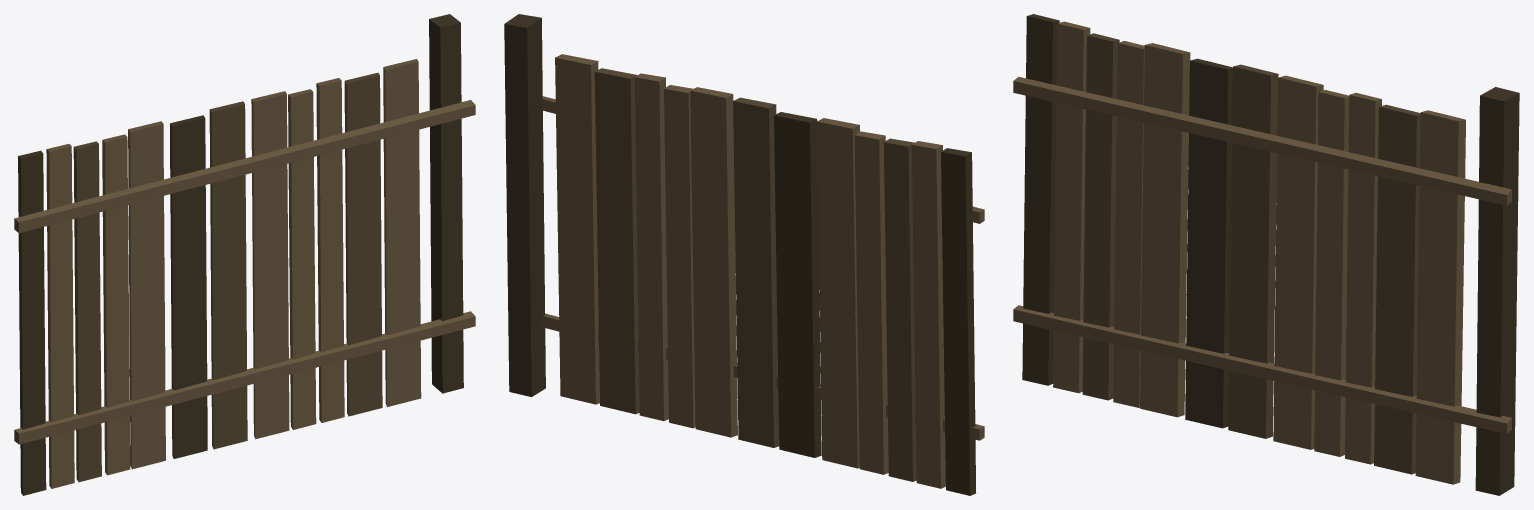
The model's file is EA03_Fence_Plank_02a.glb.
3 views of the same model, side by side, from view 1: azimuth 30°, elevation 25°; view 2: azimuth 150°, elevation 25°; view 3: azimuth 330°, elevation 25° (orthographic). The views are drawn at different scales.
Visible parts, largest first — view 1: EA03_Fence_Plank_02a; view 2: EA03_Fence_Plank_02a; view 3: EA03_Fence_Plank_02a.
Boxes of the visible parts, <box> form: EA03_Fence_Plank_02a: <box>14,14,475,495</box>; EA03_Fence_Plank_02a: <box>504,14,984,495</box>; EA03_Fence_Plank_02a: <box>1013,14,1519,495</box>.
Bounding box in the file's own units: 4 × 3.04 × 0.2843.
1 material, 1 textured.
